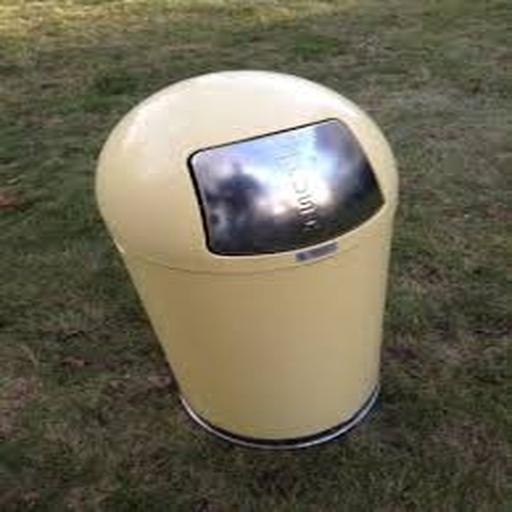Crewmate: (96, 68, 402, 452)
